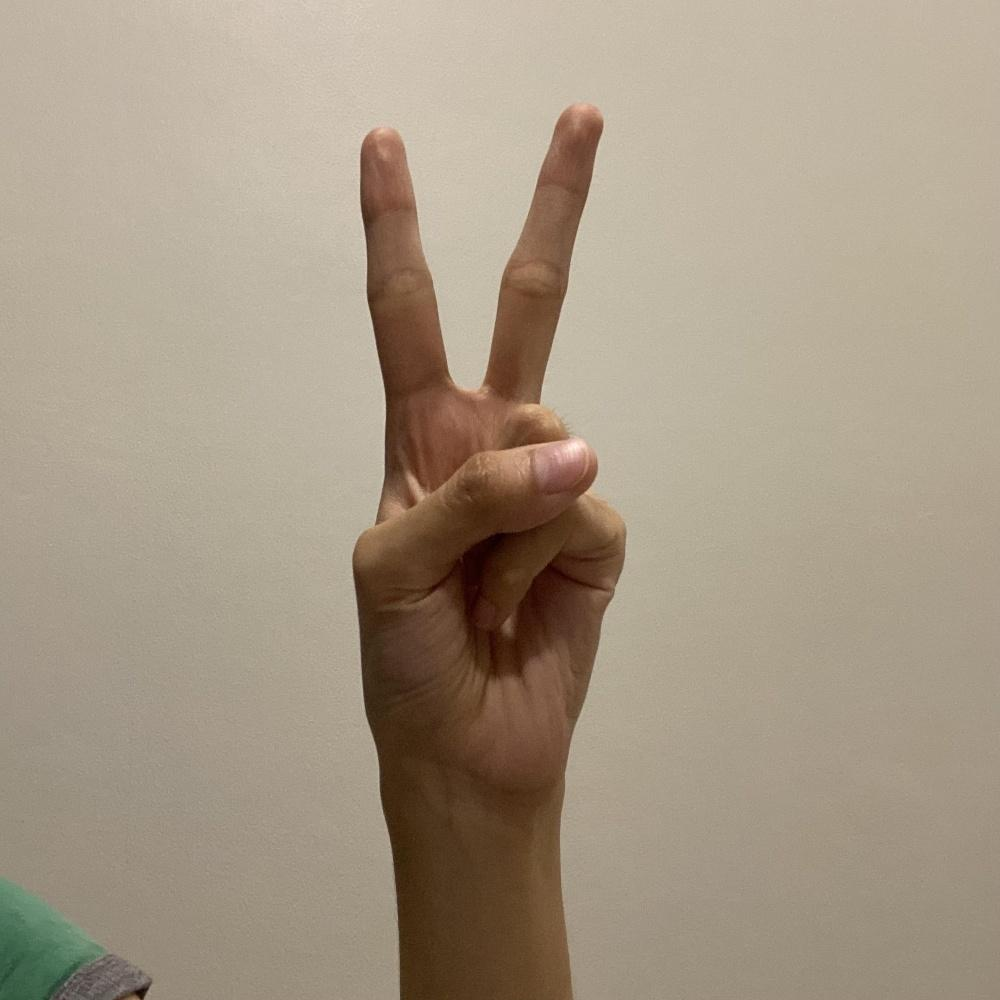v: (344, 97, 631, 798)
